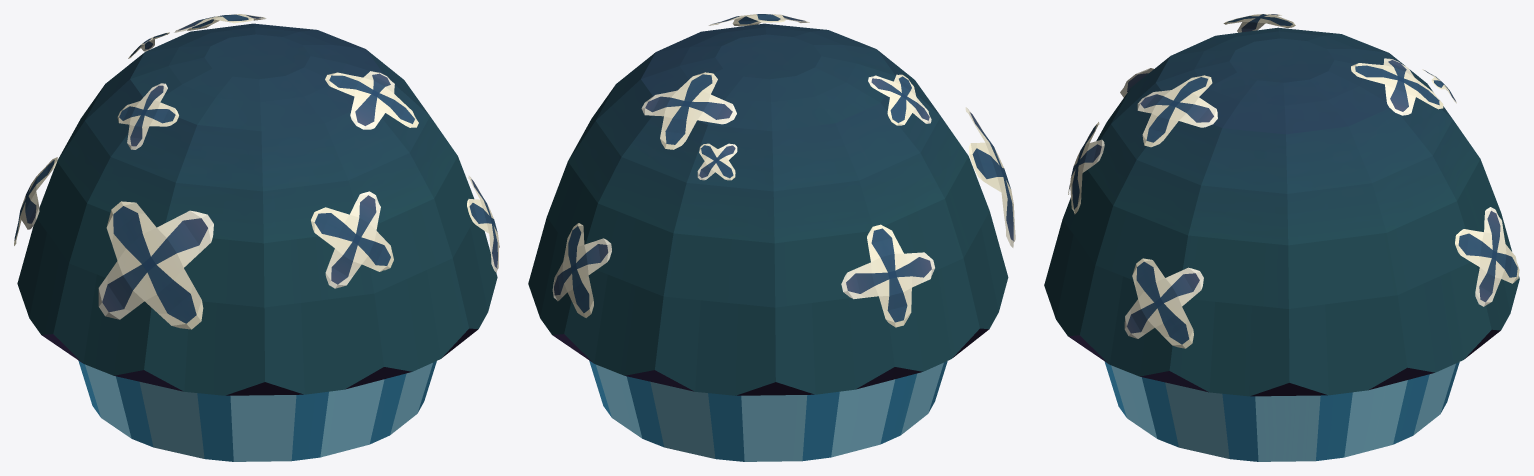
The model's file is Garden_ShrubPlanter03.fbx.
The picture shows the model from 3 angles, left to right: view 1: azimuth 30°, elevation 25°; view 2: azimuth 150°, elevation 25°; view 3: azimuth 270°, elevation 25°; orthographic projection.
Visible parts, largest first — view 1: Cylinder.205; view 2: Cylinder.205; view 3: Cylinder.205.
Boxes of the visible parts, left/top/right/bottom form: Cylinder.205: left=14, top=14, right=499, bottom=461; Cylinder.205: left=528, top=14, right=1015, bottom=461; Cylinder.205: left=1044, top=14, right=1519, bottom=461.
Bounding box in the file's own units: 58.96 × 45.88 × 58.96.
